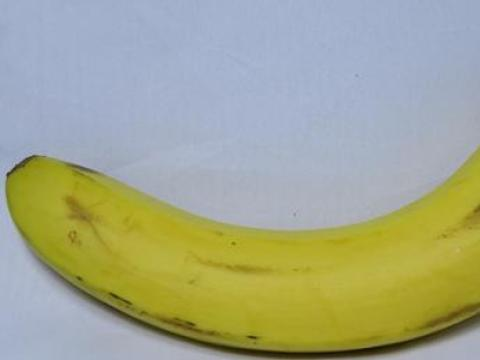freshripe: (1, 119, 479, 359)
